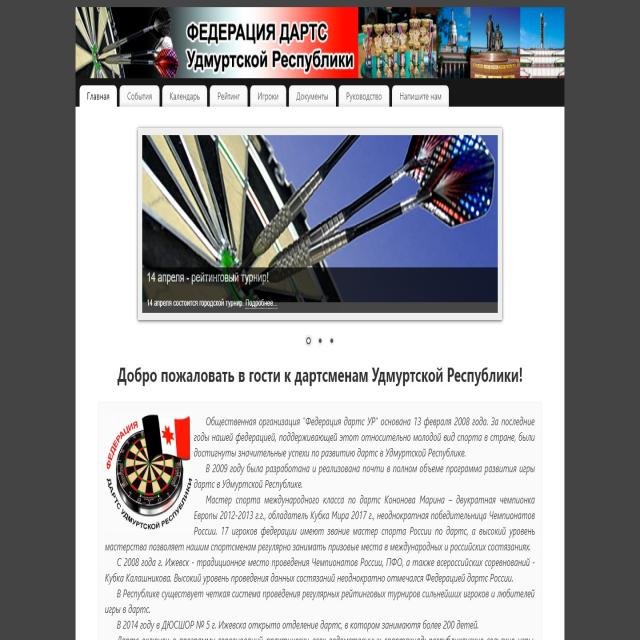button: (393, 85, 449, 108), (338, 86, 389, 108), (289, 85, 336, 107), (162, 85, 208, 107), (120, 85, 159, 108), (80, 85, 117, 109), (250, 84, 286, 108), (210, 84, 248, 106)
heading: (104, 542, 542, 640), (195, 494, 541, 555), (192, 410, 541, 458), (116, 362, 525, 390), (182, 16, 357, 78), (193, 460, 542, 490), (146, 267, 274, 288)
image: (137, 127, 503, 322), (75, 7, 566, 80), (98, 406, 195, 538)
text: (147, 297, 280, 312)
